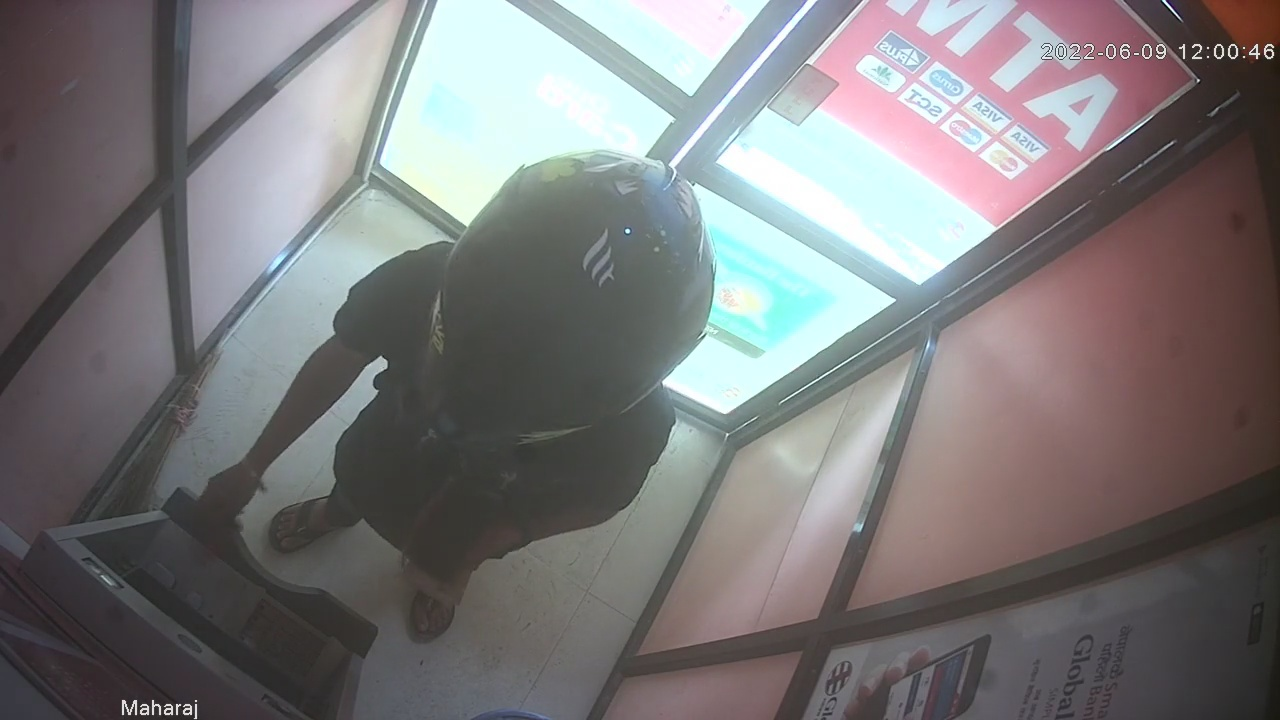helmet: (419, 151, 715, 444)
person: (197, 148, 717, 647)
